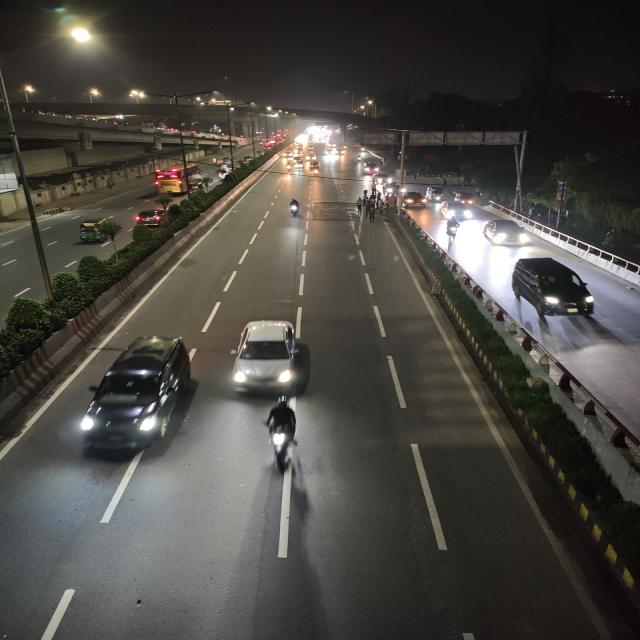bus: (151, 163, 203, 192)
car: (74, 331, 202, 462), (227, 317, 310, 401), (506, 254, 602, 322), (480, 217, 535, 251), (132, 206, 170, 228), (438, 200, 474, 220), (401, 190, 428, 208), (359, 159, 382, 175)
cng: (72, 215, 110, 247), (427, 185, 447, 202), (308, 161, 320, 173)
motorcycle: (262, 398, 301, 476), (441, 216, 462, 242), (284, 198, 303, 218)
pedestrian: (367, 207, 379, 223), (356, 197, 365, 216), (372, 182, 378, 196), (412, 170, 420, 180), (441, 177, 447, 186)
